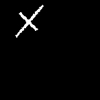single_crochet: (16, 5, 42, 36)
